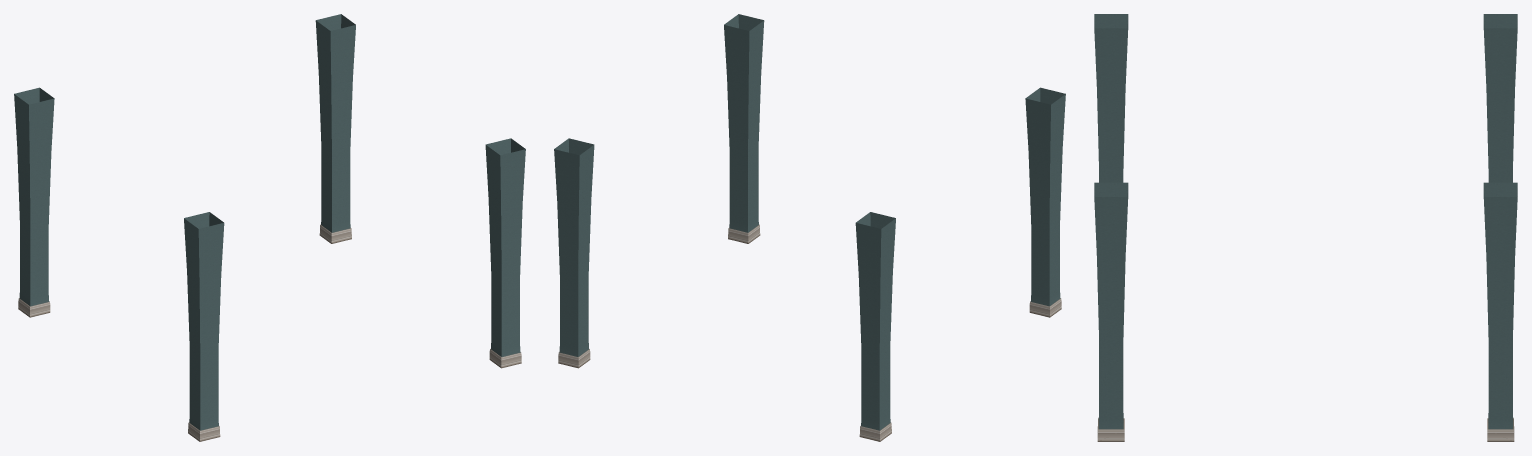
The model's file is SM_Pillars_4.fbx.
3 views of the same model, side by side, from view 1: azimuth 30°, elevation 25°; view 2: azimuth 150°, elevation 25°; view 3: azimuth 270°, elevation 25° (orthographic). The views are drawn at different scales.
Parts seen in each view (by area): view 1: SM_Pillars_4; view 2: SM_Pillars_4; view 3: SM_Pillars_4.
Boxes of the visible parts, left/top/right/bottom form: SM_Pillars_4: left=14, top=14, right=525, bottom=441; SM_Pillars_4: left=554, top=14, right=1065, bottom=441; SM_Pillars_4: left=1094, top=14, right=1517, bottom=441.
Bounding box in the file's own units: 547 × 343 × 535.
Materials: 2 (2 with a texture image).
